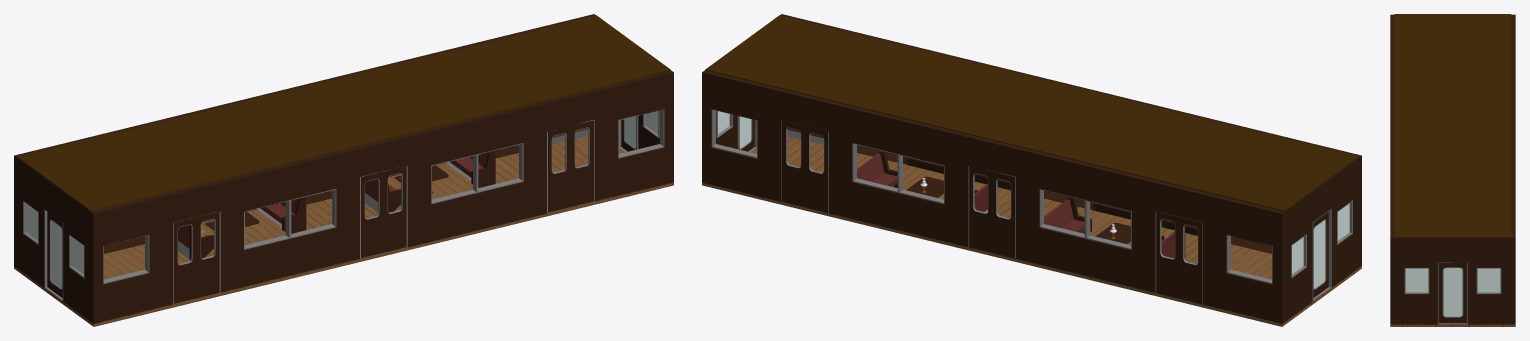
File: CarruagemFinal.fbx
3 views of the same model, side by side, from view 1: azimuth 30°, elevation 25°; view 2: azimuth 150°, elevation 25°; view 3: azimuth 270°, elevation 25° (orthographic). The views are drawn at different scales.
Parts seen in each view (by area): view 1: PAREDE, Cube.001, chao, porta3, porta2, porta1, オブジェクト_304, オブジェクト_312, vidroporta, オブジェクト_545.003, オブジェクト_545.006, オブジェクト_283 (+1 smaller); view 2: PAREDE, Cube.001, chao, porta6, porta5, porta4, オブジェクト_549, オブジェクト_557, vidroporta, オブジェクト_546.006, オブジェクト_546.003, Cube (+2 smaller); view 3: Cube.001, PAREDE, janeladaporta, porta, janela3, janela4, chao, moldjanporta, moldurajanela3, moldurajanela4, moldporta.
Boxes of the visible parts, x1,y1,x2,y2 form: PAREDE: (14,14,673,323); Cube.001: (17,15,670,211); chao: (14,136,673,326); porta3: (173,212,219,303); porta2: (361,166,406,257); porta1: (548,120,593,211); オブジェクト_304: (431,143,523,203); オブジェクト_312: (244,189,336,249); vidroporta: (50,220,61,288); オブジェクト_545.003: (471,150,495,187); オブジェクト_545.006: (282,197,306,233); オブジェクト_283: (618,109,664,158); PAREDE: (702,14,1361,323); Cube.001: (705,15,1358,211); chao: (702,136,1361,326); porta6: (1156,212,1202,303); porta5: (969,166,1014,257); porta4: (782,120,827,211); オブジェクト_549: (852,143,944,203); オブジェクト_557: (1039,189,1131,249); vidroporta: (1314,220,1325,288); オブジェクト_546.006: (1044,199,1073,228); オブジェクト_546.003: (857,153,884,181); Cube: (906,176,943,197); Cube.001: (1394,14,1511,237); PAREDE: (1390,14,1515,324); janeladaporta: (1443,268,1462,316); porta: (1439,262,1466,323); janela3: (1477,268,1500,292); janela4: (1405,268,1428,292); chao: (1390,324,1515,326); moldjanporta: (1442,267,1463,317); moldurajanela3: (1476,267,1501,293); moldurajanela4: (1404,267,1429,293); moldporta: (1438,262,1467,324).
Size of the model in its own units: 1706 by 320 by 406.
